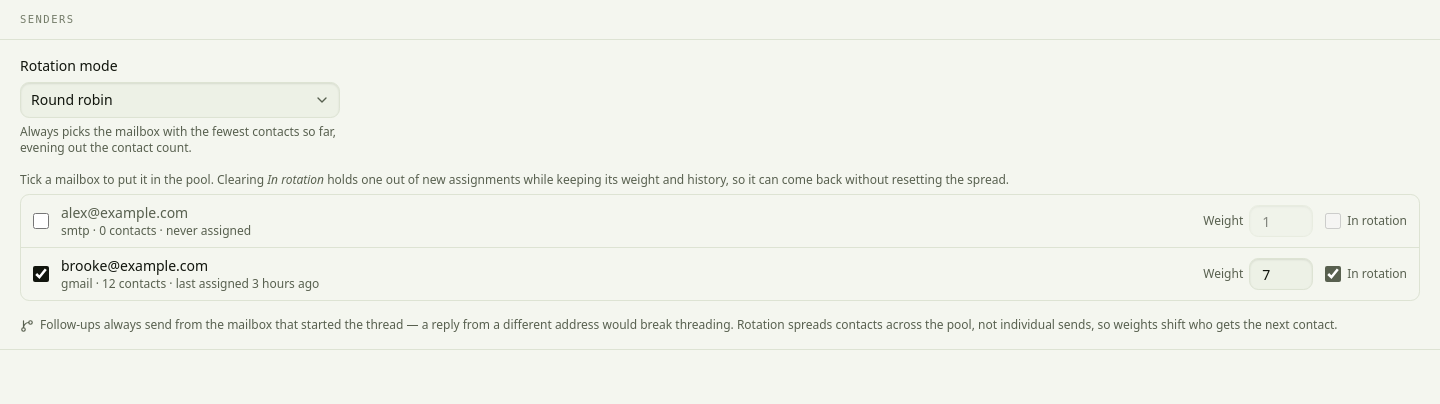
Test case: SendersPanel › a cleared weight is caught client-side too
The image size is (1440, 404).
Expected: the dropdown labelled "Rotation mode" is shown, [20,82,340,118]
Clear the number field named "Weight for brooke@example.com" at (1281,274), box [1249,258,1313,290]
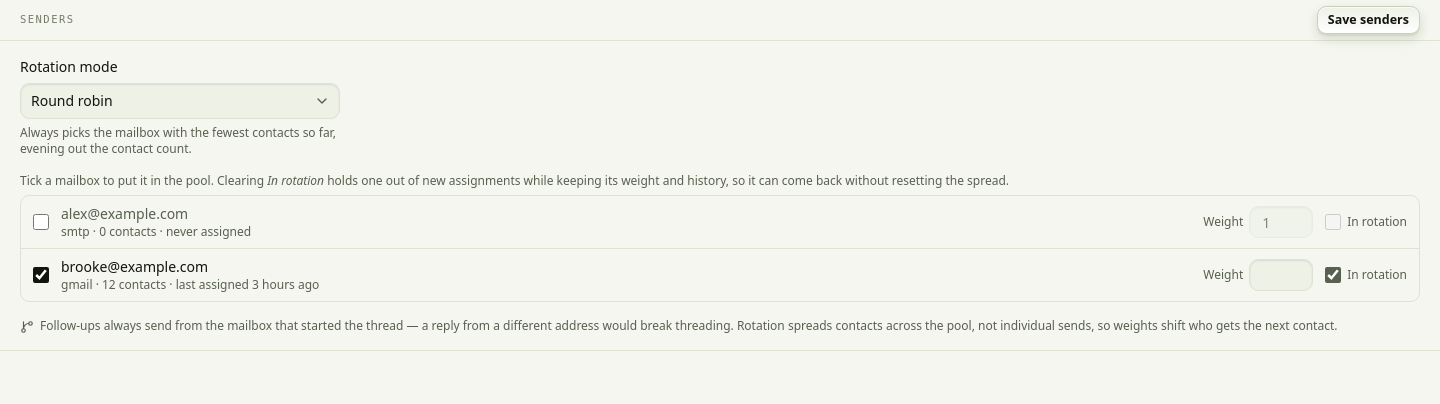
Click the button "Save senders" at (1368,20), box [1317,6,1420,34]
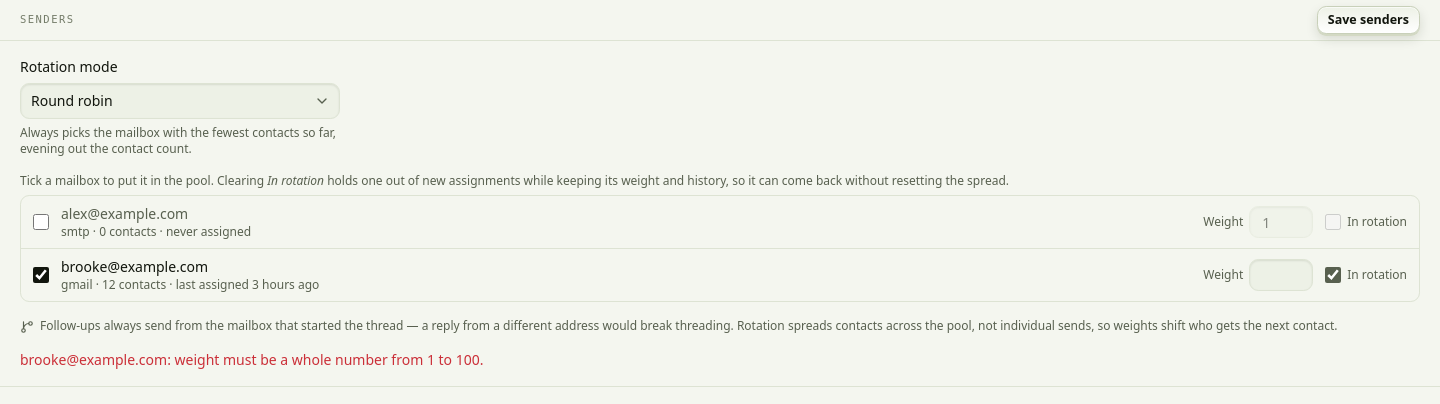
Expected: the message shows "weight must be a whole number", [20,350,484,369]
